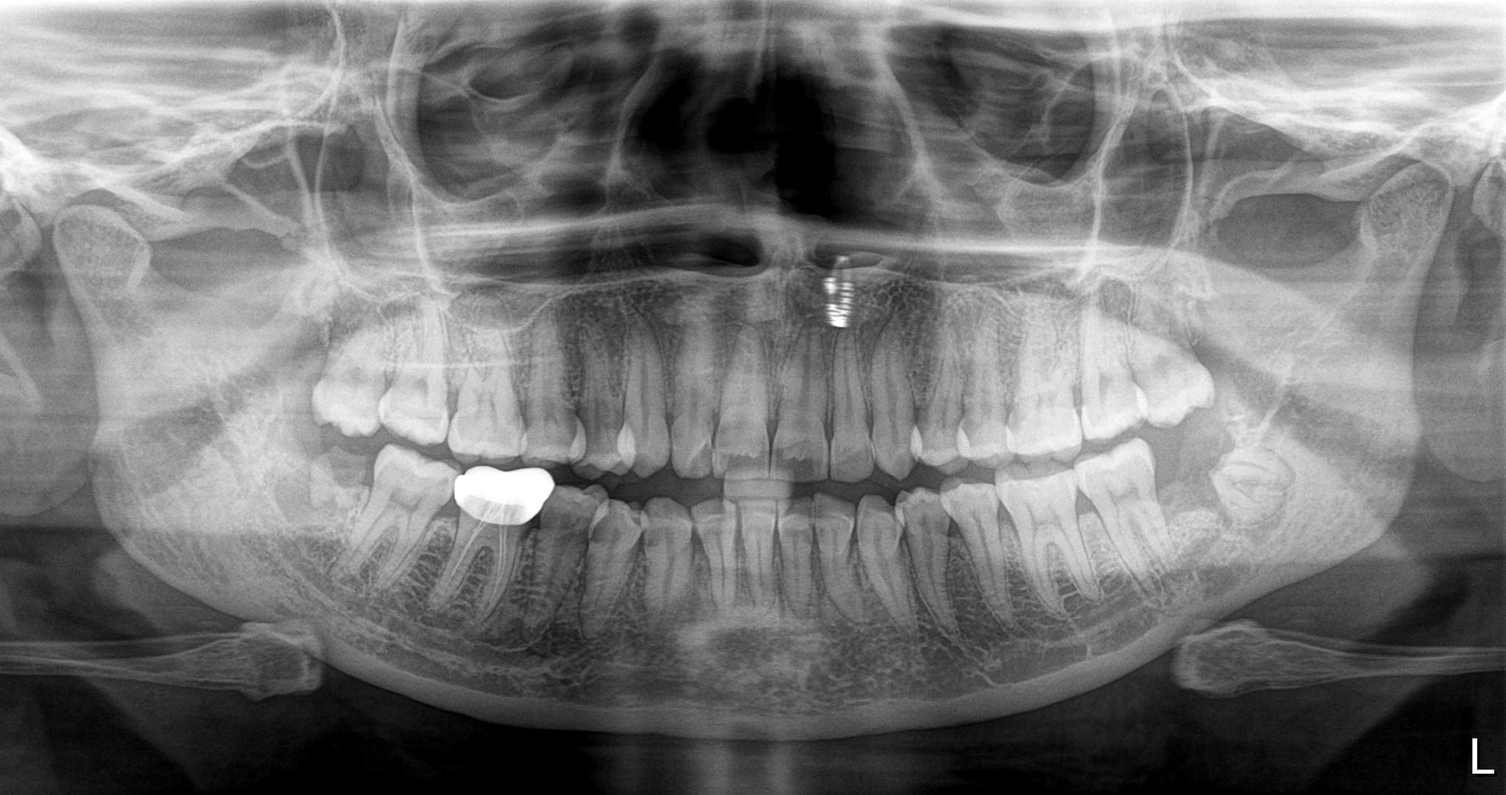Endodontically Treated Tooth: (460, 471, 539, 620)
Retained Root: (1202, 441, 1317, 538), (285, 438, 377, 515)
